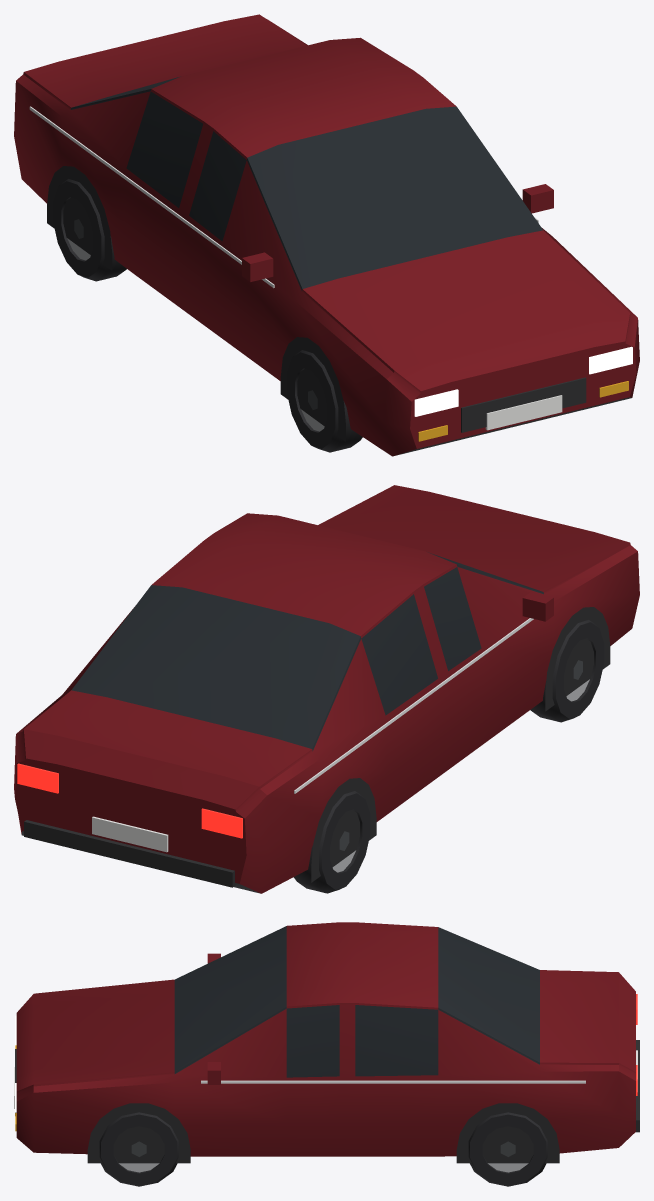
File: sedan_red.glb
3 views of the same model, one above another, from view 1: azimuth 30°, elevation 25°; view 2: azimuth 150°, elevation 25°; view 3: azimuth 270°, elevation 25° (orthographic). The views are drawn at different scales.
Visible parts, largest first — view 1: sedan; view 2: sedan; view 3: sedan.
Part boxes in pixels (box(x1,y1,x2,y2)): sedan: box(14, 14, 639, 456); sedan: box(14, 485, 639, 893); sedan: box(14, 922, 639, 1186).
Bounding box in the file's own units: 0.126 × 0.09 × 0.285.
